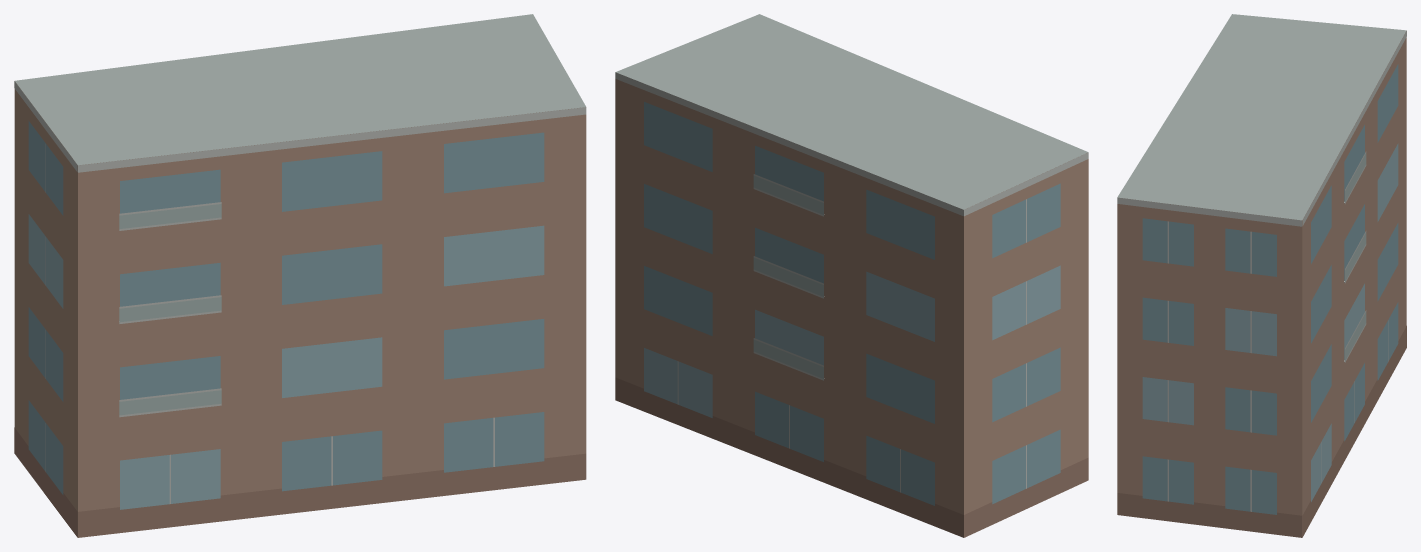
File: survey-upis-32648247.glb
The picture shows the model from 3 angles, left to right: view 1: azimuth 30°, elevation 25°; view 2: azimuth 150°, elevation 25°; view 3: azimuth 270°, elevation 25°; orthographic projection. The views are drawn at different scales.
Parts seen in each view (by area): view 1: survey-upis-32648247.tmp; view 2: survey-upis-32648247.tmp; view 3: survey-upis-32648247.tmp.
Part boxes in pixels (x1=…): survey-upis-32648247.tmp: x1=14, y1=14, x2=586, y2=537; survey-upis-32648247.tmp: x1=615, y1=14, x2=1088, y2=537; survey-upis-32648247.tmp: x1=1117, y1=14, x2=1406, y2=537.
Bounding box in the file's own units: 17.02 × 12.2 × 10.1.
